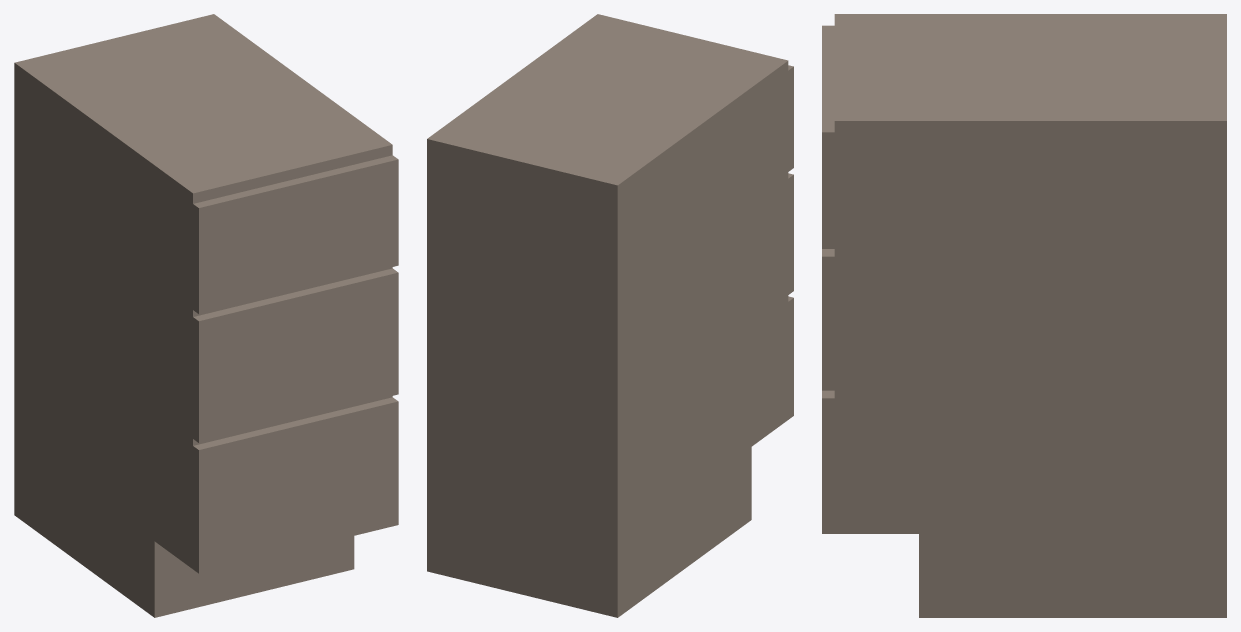
Rendered from Universal-Design-Base-Cabinet-Three-Drawer-24-Deep_std_001_W15i.glb.
The picture shows the model from 3 angles, left to right: view 1: azimuth 30°, elevation 25°; view 2: azimuth 150°, elevation 25°; view 3: azimuth 270°, elevation 25°; orthographic projection. The views are drawn at different scales.
Parts seen in each view (by area): view 1: Universal-Design-Base-Cabinet-Three-Drawer-24-Deep.std.001_W; view 2: Universal-Design-Base-Cabinet-Three-Drawer-24-Deep.std.001_W; view 3: Universal-Design-Base-Cabinet-Three-Drawer-24-Deep.std.001_W.
Part boxes in pixels (x1,y1,x2,y2): Universal-Design-Base-Cabinet-Three-Drawer-24-Deep.std.001_W: (14,14,398,617); Universal-Design-Base-Cabinet-Three-Drawer-24-Deep.std.001_W: (427,14,793,617); Universal-Design-Base-Cabinet-Three-Drawer-24-Deep.std.001_W: (822,14,1226,617).
Size of the model in its own units: 0.381 by 0.8255 by 0.6096.
